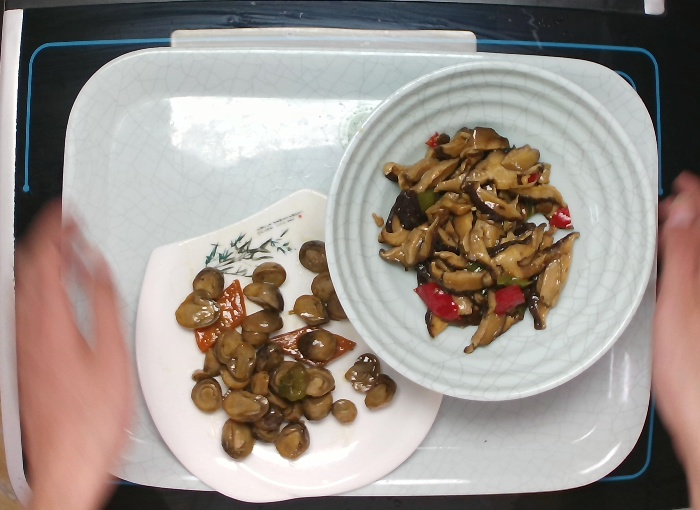JYsf-Da_Tang_Wan: (324, 55, 659, 405)
JYsf-Mian_Pan: (132, 180, 467, 507)
